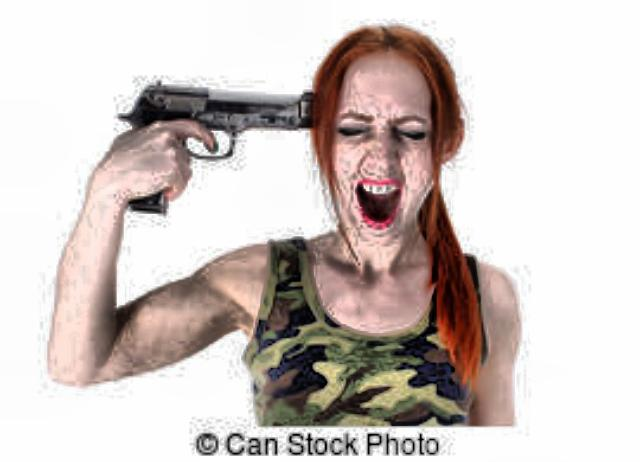pistol: (114, 79, 310, 211)
